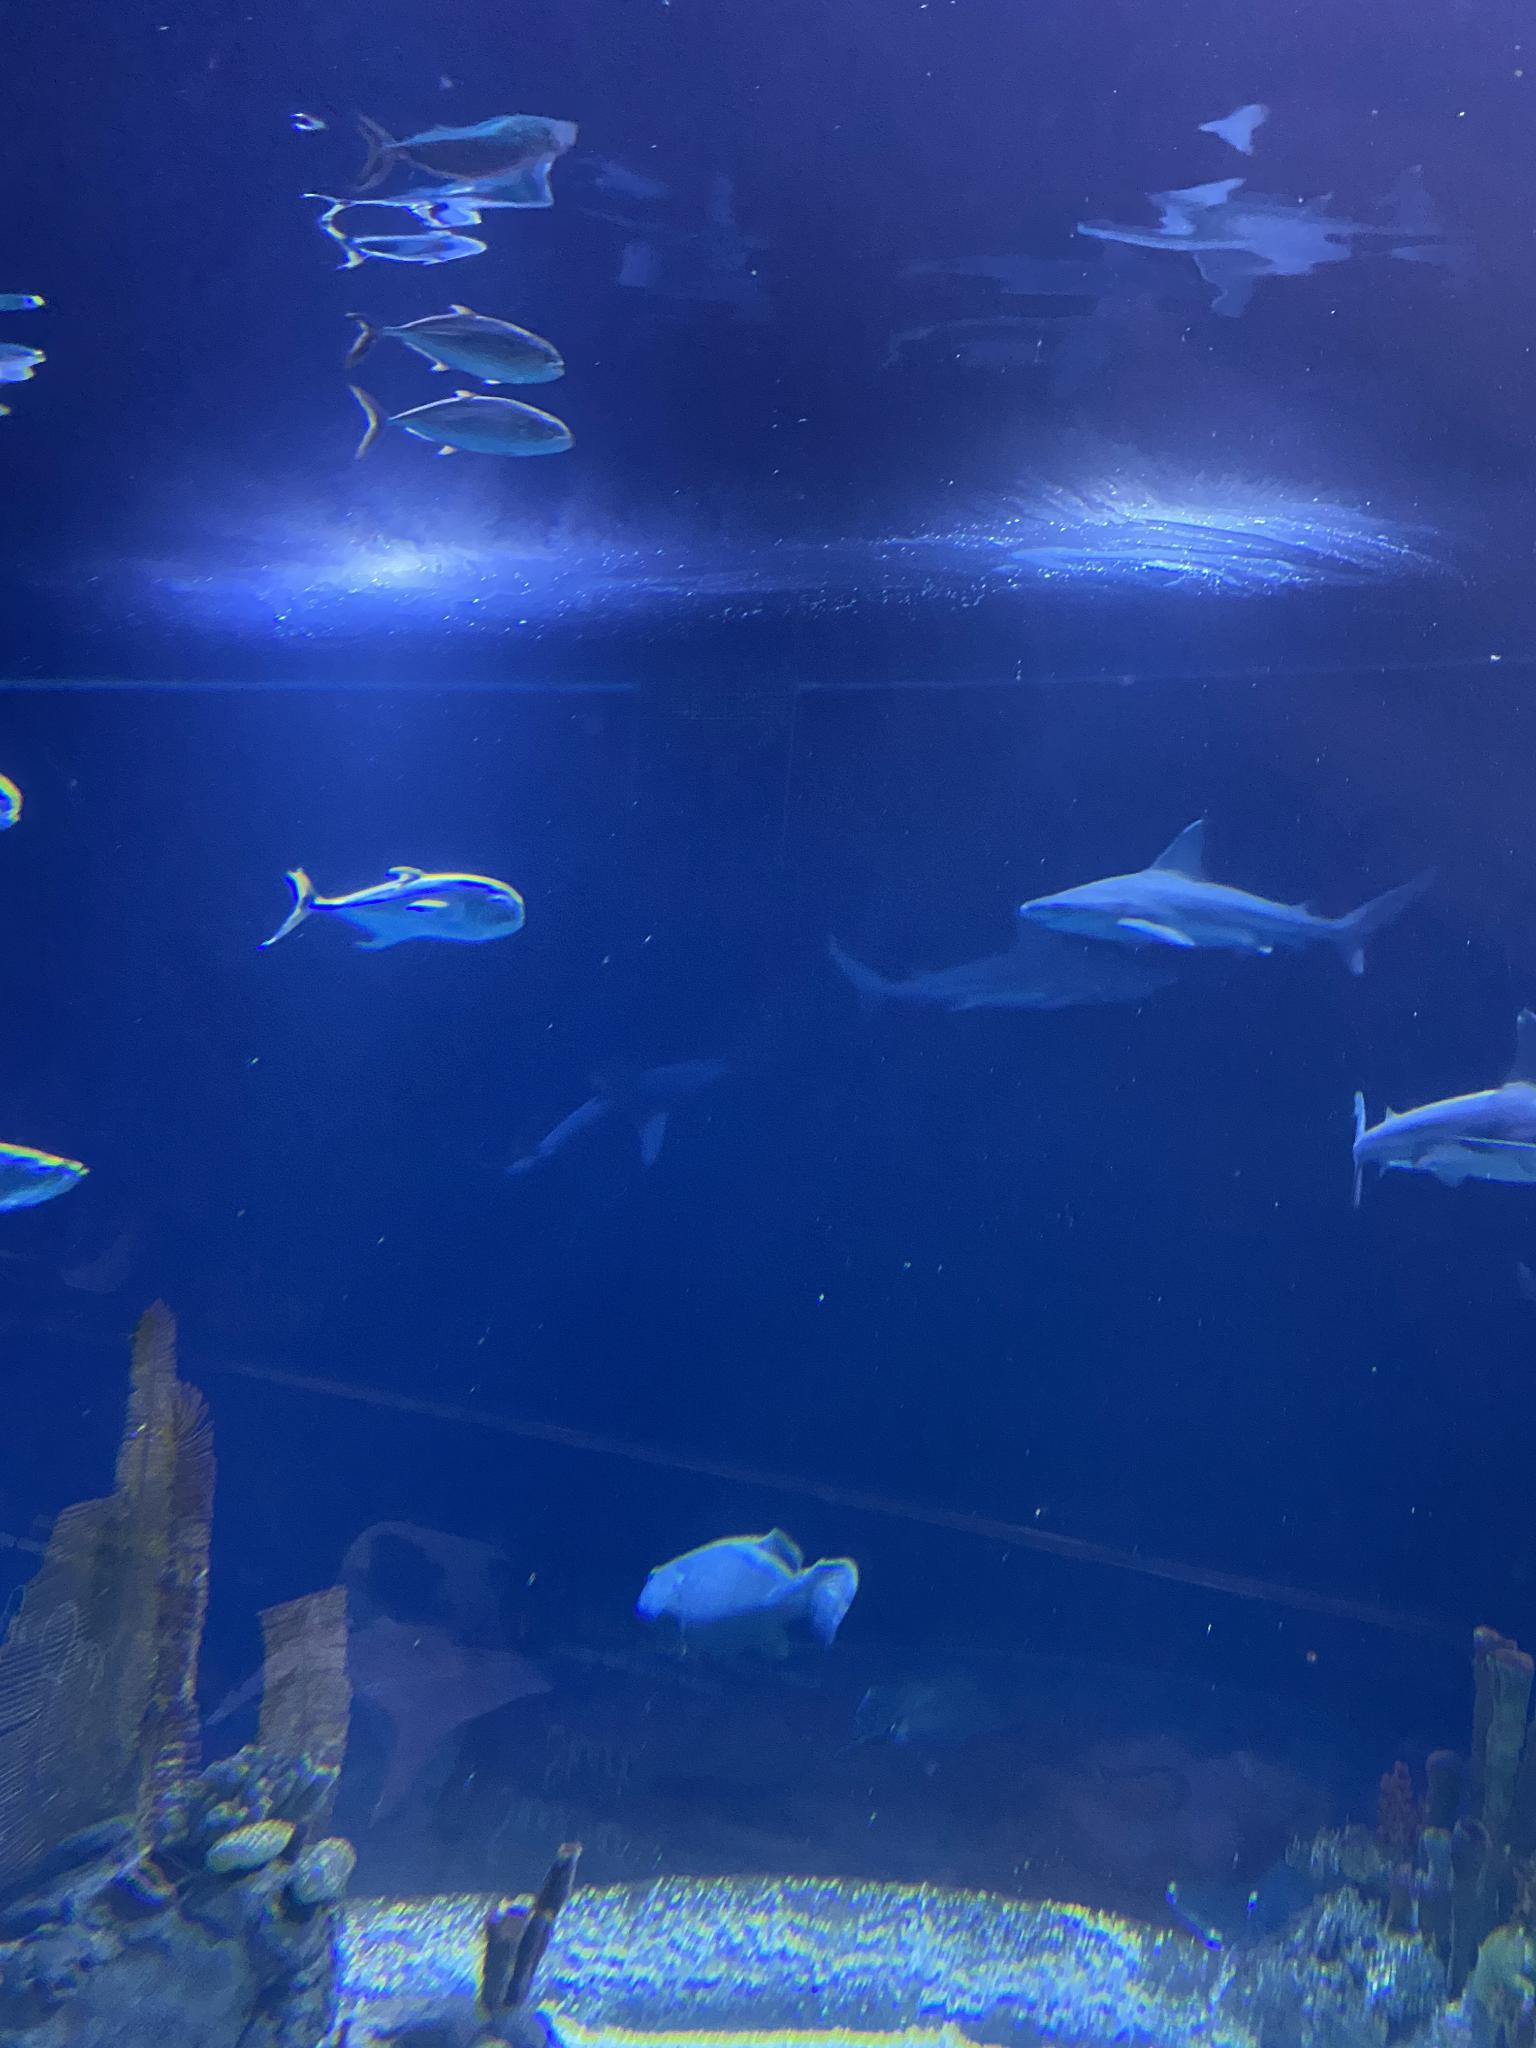fish: (636, 1529, 857, 1672), (253, 856, 532, 953), (337, 106, 600, 205), (340, 373, 586, 463), (332, 303, 571, 393), (307, 210, 494, 277)
shark: (1016, 816, 1438, 980), (478, 1047, 721, 1177), (829, 937, 1228, 1014), (1349, 1063, 1536, 1214)
